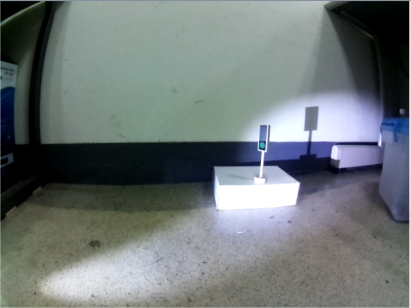Green: (257, 123, 272, 154)
